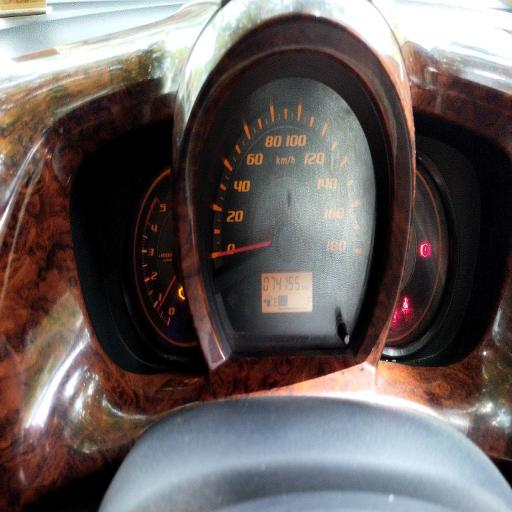belt: (402, 296, 409, 316)
brake_system_fault: (420, 243, 431, 258)
tachometer: (132, 169, 200, 349)
